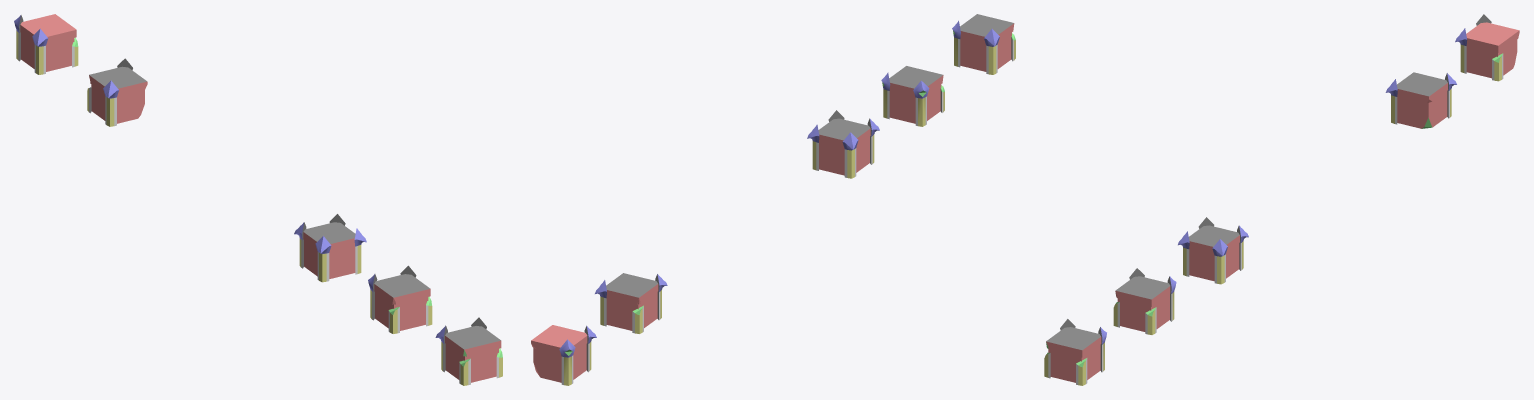
The model's file is SSQ_BRoom_pillar01.gltf.
3 views of the same model, side by side, from view 1: azimuth 30°, elevation 25°; view 2: azimuth 150°, elevation 25°; view 3: azimuth 330°, elevation 25° (orthographic). The views are drawn at different scales.
Visible parts, largest first — view 1: SSQ_BRoom_pillar01; view 2: SSQ_BRoom_pillar01; view 3: SSQ_BRoom_pillar01.
Part boxes in pixels (x1,y1,x2,y2): SSQ_BRoom_pillar01: (14,14,502,385); SSQ_BRoom_pillar01: (531,14,1015,385); SSQ_BRoom_pillar01: (1044,14,1519,385).
Size of the model in its own units: 0.9692 by 0.892 by 16.25.
